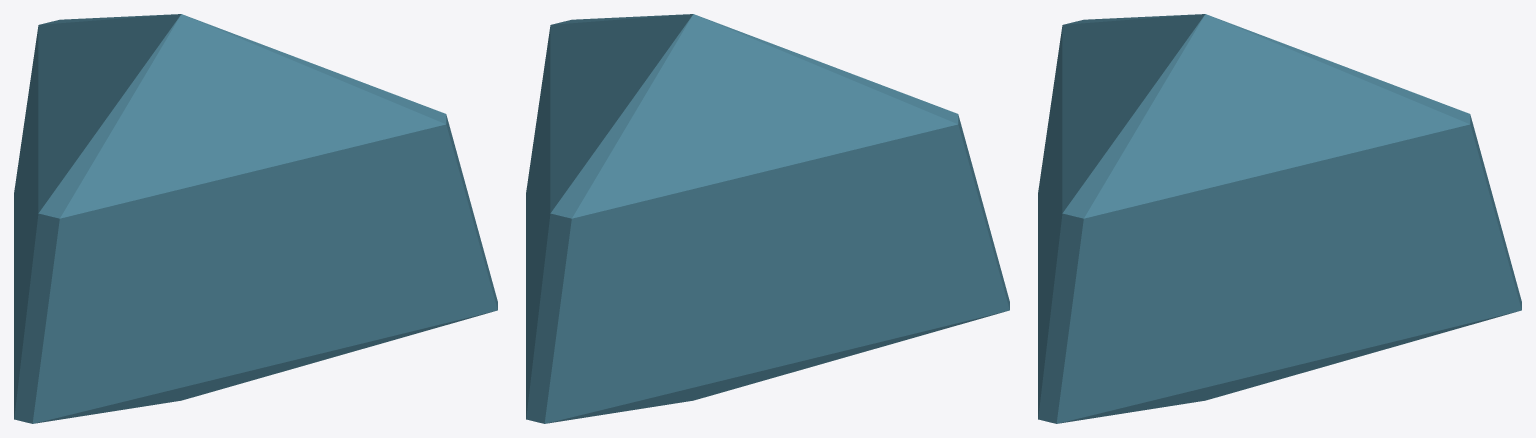
The model's file is SM_LP_RefinedMineral_4.fbx.
3 renders of one model, left to right at view 1: azimuth 30°, elevation 25°; view 2: azimuth 150°, elevation 25°; view 3: azimuth 270°, elevation 25°, orthographic.
Parts seen in each view (by area): view 1: SM_LP_RefinedMineral_4; view 2: SM_LP_RefinedMineral_4; view 3: SM_LP_RefinedMineral_4.
Part boxes in pixels (x1,y1,x2,y2): SM_LP_RefinedMineral_4: (14, 14, 497, 423); SM_LP_RefinedMineral_4: (526, 14, 1009, 423); SM_LP_RefinedMineral_4: (1038, 14, 1521, 423).
Size of the model in its own units: 0.3113 by 0.2378 by 0.2696.
